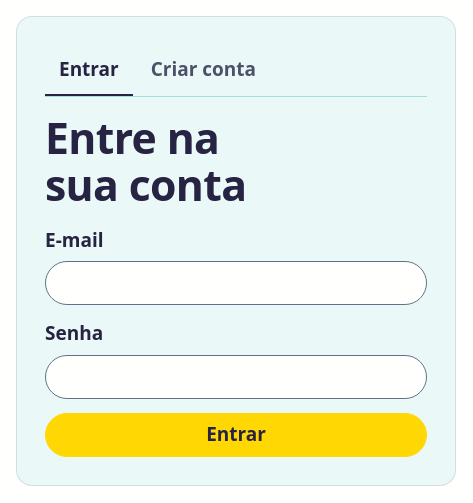
Test: Login (entrar) › enquanto envia, o botão fica desabilitado e diz 'Enviando…'
The width and height of the screenshot is (473, 503).
Step 1. Type "voce@exemplo.com" into the field labelled "E-mail" → [236, 283], box [45,261,427,305]
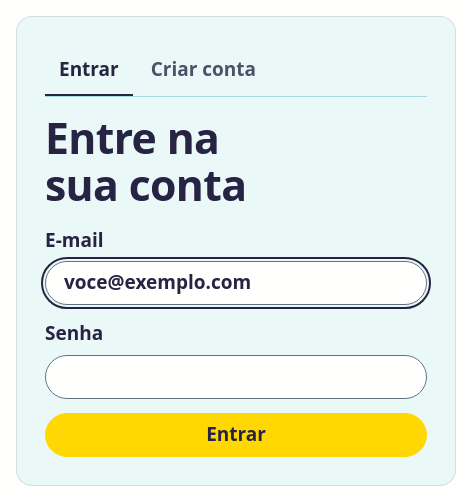
Step 2. Type "senha-longa-1" into the password field labelled "Senha" → [236, 377], box [45,355,427,399]
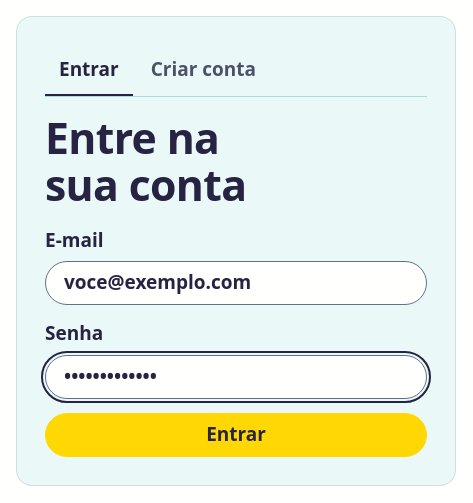
Step 3. Click the button "Entrar" → [236, 435], box [45,413,427,457]
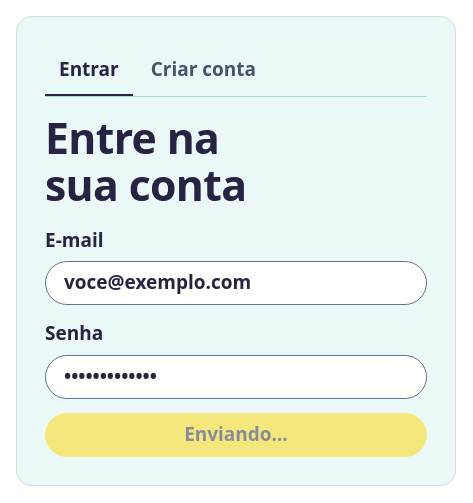
Now the button "Enviando…" is disabled, box [45,413,427,457]
